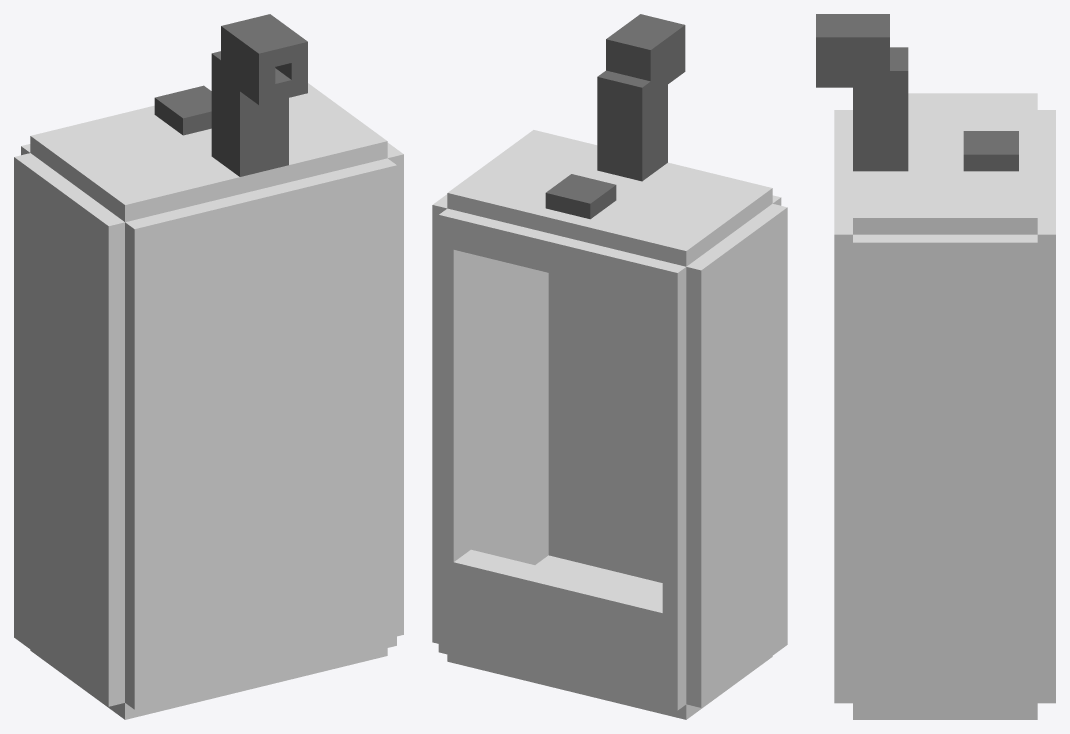
The model's file is SchoolPack-8-Urinator.obj.
3 renders of one model, left to right at view 1: azimuth 30°, elevation 25°; view 2: azimuth 150°, elevation 25°; view 3: azimuth 270°, elevation 25°, orthographic. The views are drawn at different scales.
Visible parts, largest first — view 1: Urinator; view 2: Urinator; view 3: Urinator.
Boxes of the visible parts, left/top/right/bottom form: Urinator: left=14, top=14, right=403, bottom=719; Urinator: left=432, top=14, right=787, bottom=719; Urinator: left=816, top=14, right=1055, bottom=719.
Size of the model in its own units: 1.8 by 3.8 by 1.3.
Materials: 1 (1 with a texture image).
